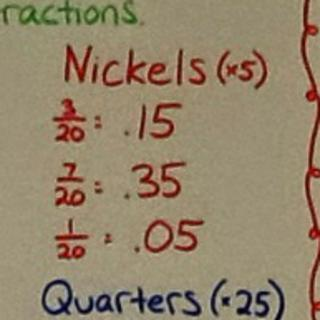.: (119, 190, 134, 203), (121, 124, 132, 140), (131, 244, 142, 255)
0: (142, 215, 174, 256)
1: (138, 96, 147, 148)
3: (127, 158, 161, 202)
5: (149, 100, 184, 141), (157, 160, 191, 202), (172, 215, 206, 254)
